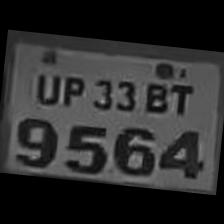3: (83, 64, 116, 110), (107, 69, 140, 113)
4: (154, 120, 210, 178)
5: (56, 114, 112, 174)
6: (106, 116, 162, 176)
9: (6, 108, 62, 166)
B: (136, 68, 173, 114)
P: (56, 66, 89, 110)
T: (163, 69, 200, 117)
U: (26, 59, 66, 105)
